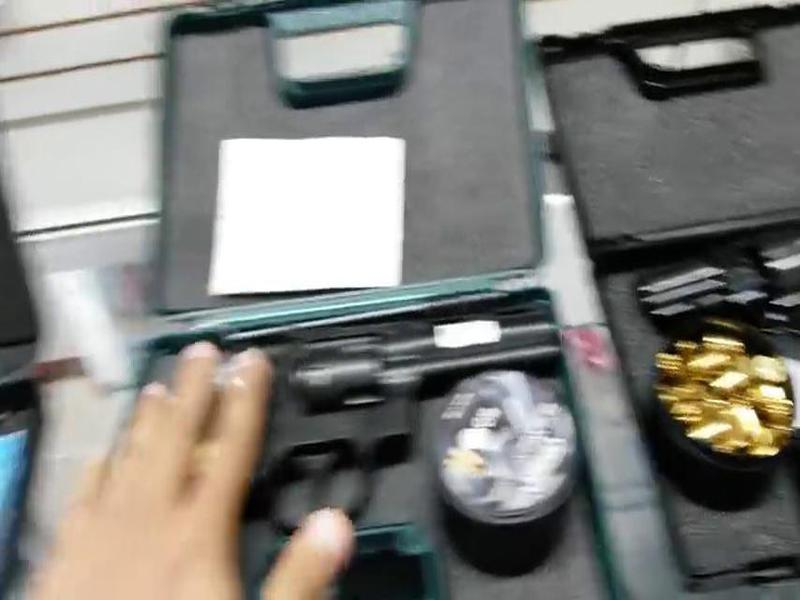Revolver: (188, 284, 559, 555)
